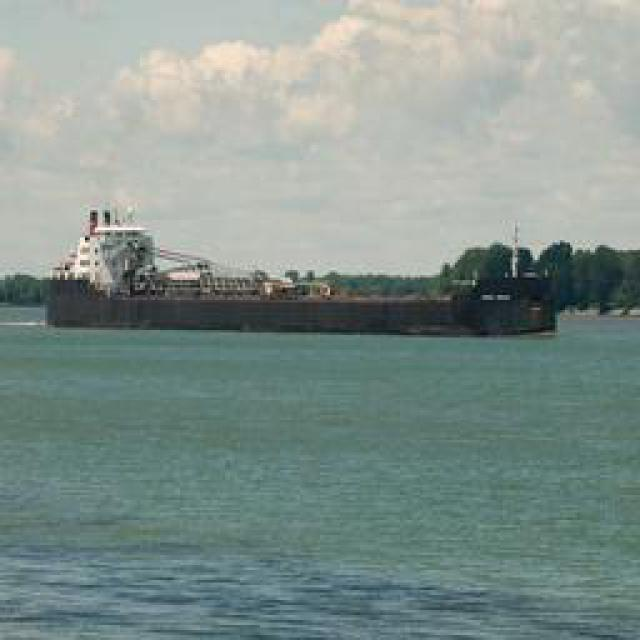Ship: (44, 205, 409, 320)
